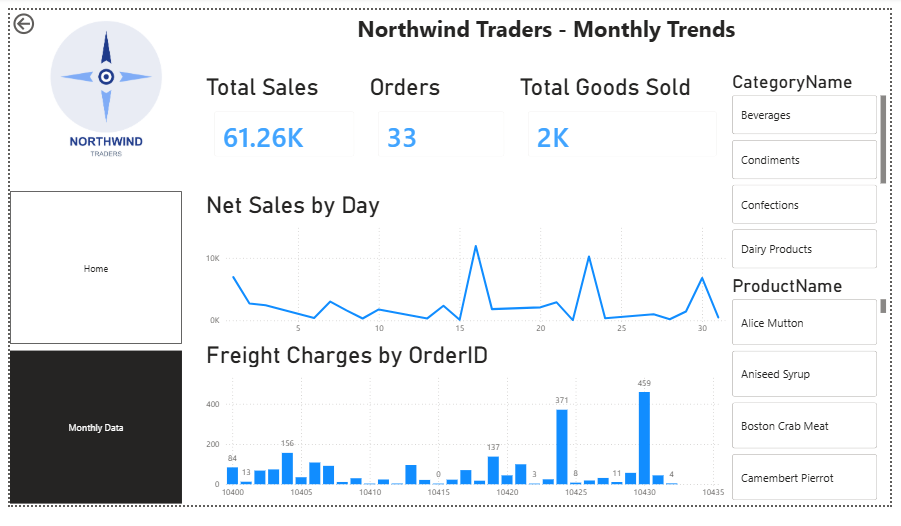

What the dashboard file says about the page in this screenshot:
{"tool":"powerbi","page":{"name":"Monthly  Data","canvas":[1280,720],"ordinal":1},"visuals":[{"type":"textbox","box":[279.5,0,1000,92.3],"z":0},{"type":"cardVisual","title":"Orders","fields":{"Data":["Count(FactOrders.OrderID)"]},"box":[518.2,92.7,218.2,138.2],"z":1},{"type":"cardVisual","title":"Total Goods Sold","fields":{"Data":["Sum(FactOrders.Quantity)"]},"box":[736.4,92.7,309.1,138.2],"z":2},{"type":"cardVisual","title":"Total Sales","fields":{"Data":["Sum(FactOrders.NetPrice)"]},"box":[280,92.7,238.2,138.2],"z":3},{"type":"image","box":[0,1.8,280,229.1],"z":4},{"type":"lineChart","title":"Net Sales by Day","fields":{"Y":["Sum(FactOrders.NetPrice)"],"Category":["DimDate.DD_Day"]},"box":[280,263.6,765.5,218.2],"z":5},{"type":"clusteredColumnChart","title":"Freight Charges by OrderID","fields":{"Y":["Max(FactOrders.Freight)"],"Category":["FactOrders.OrderID"]},"box":[280,481.8,765.5,238.2],"z":6},{"type":"advancedSlicerVisual","fields":{"Values":["DimProduct.CategoryName"]},"box":[1045.5,89.1,234.5,296.4],"z":7},{"type":"advancedSlicerVisual","fields":{"Values":["DimProduct.ProductName"]},"box":[1045.5,385.5,234.5,332.7],"z":8},{"type":"actionButton","box":[0,0,100,40],"z":9},{"type":"pageNavigator","box":[0,263.6,250.9,454.5],"z":10}]}

Visuals, with their boxes on the page's 1280x720 design canvas (x1, y1, x2, y2). These are canvas units, not pixel positions in the 901x526 screenshot, which may show the page scaled, cropped or inside an application window:
textbox: {"left": 280, "top": 0, "right": 1280, "bottom": 92}
"Orders" cardVisual: {"left": 518, "top": 93, "right": 736, "bottom": 231}
"Total Goods Sold" cardVisual: {"left": 736, "top": 93, "right": 1046, "bottom": 231}
"Total Sales" cardVisual: {"left": 280, "top": 93, "right": 518, "bottom": 231}
image: {"left": 0, "top": 2, "right": 280, "bottom": 231}
"Net Sales by Day" lineChart: {"left": 280, "top": 264, "right": 1046, "bottom": 482}
"Freight Charges by OrderID" clusteredColumnChart: {"left": 280, "top": 482, "right": 1046, "bottom": 720}
advancedSlicerVisual - DimProduct.CategoryName: {"left": 1046, "top": 89, "right": 1280, "bottom": 386}
advancedSlicerVisual - DimProduct.ProductName: {"left": 1046, "top": 386, "right": 1280, "bottom": 718}
actionButton: {"left": 0, "top": 0, "right": 100, "bottom": 40}
pageNavigator: {"left": 0, "top": 264, "right": 251, "bottom": 718}
